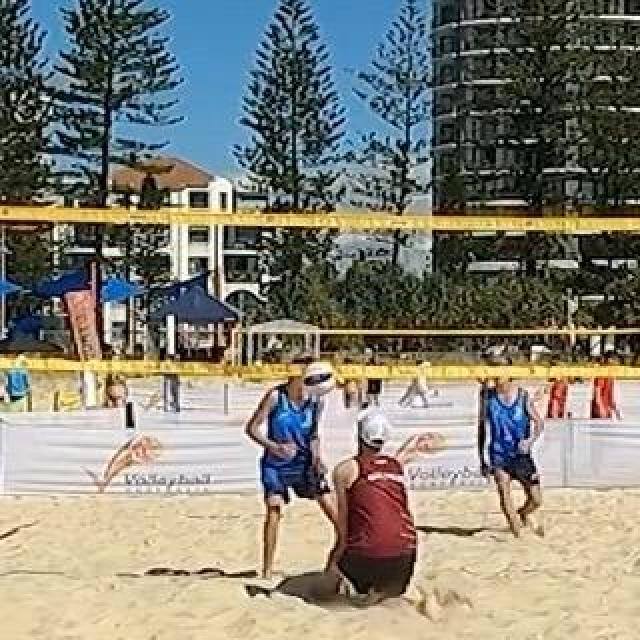volleyball: (300, 359, 336, 397)
